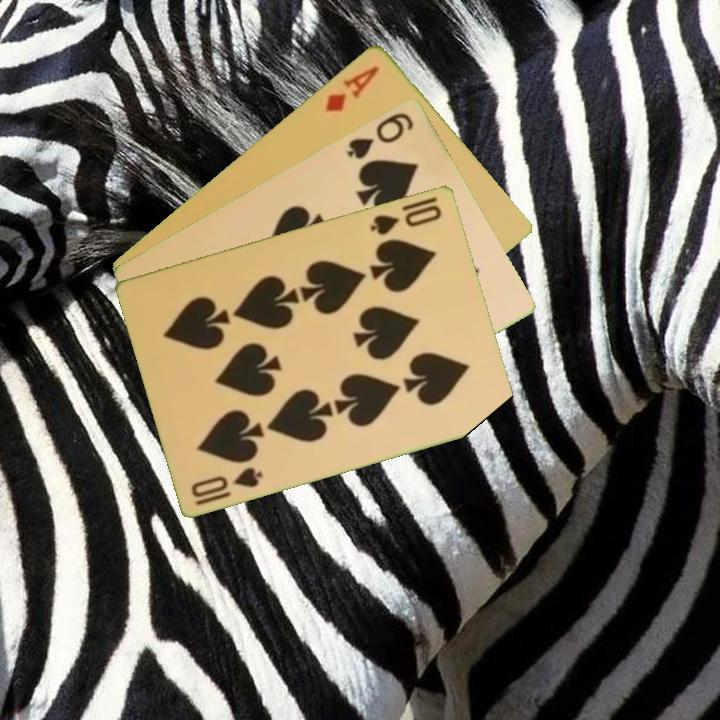10s: (188, 463, 266, 508), (367, 200, 445, 238)
6s: (343, 108, 417, 162)
Ad: (321, 61, 382, 115)
